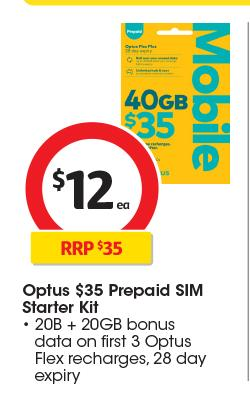description_block: (11, 271, 209, 315)
price_main: (23, 127, 161, 238)
product_image_block: (121, 20, 244, 189)
promo_text_block: (16, 228, 166, 269)
